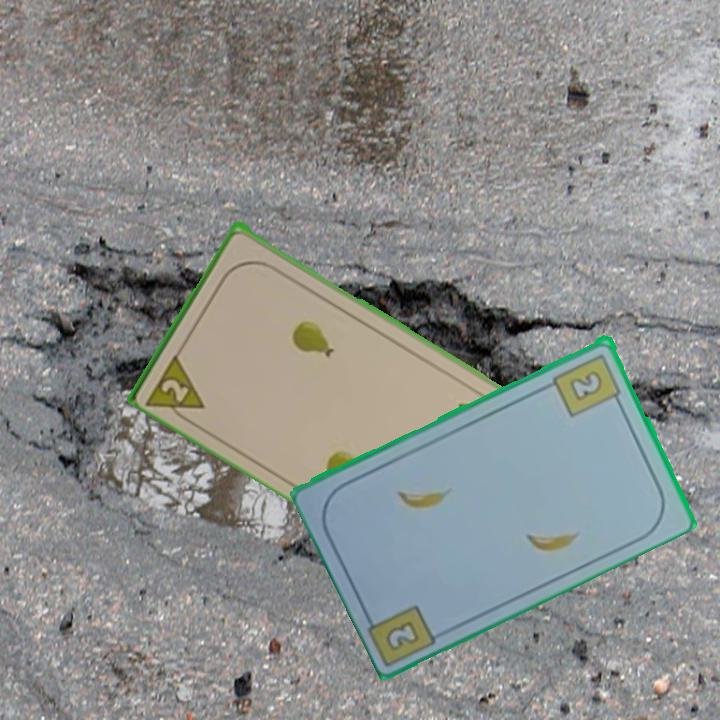2b: (550, 349, 625, 420), (382, 617, 423, 654)
2p: (157, 374, 193, 405)
